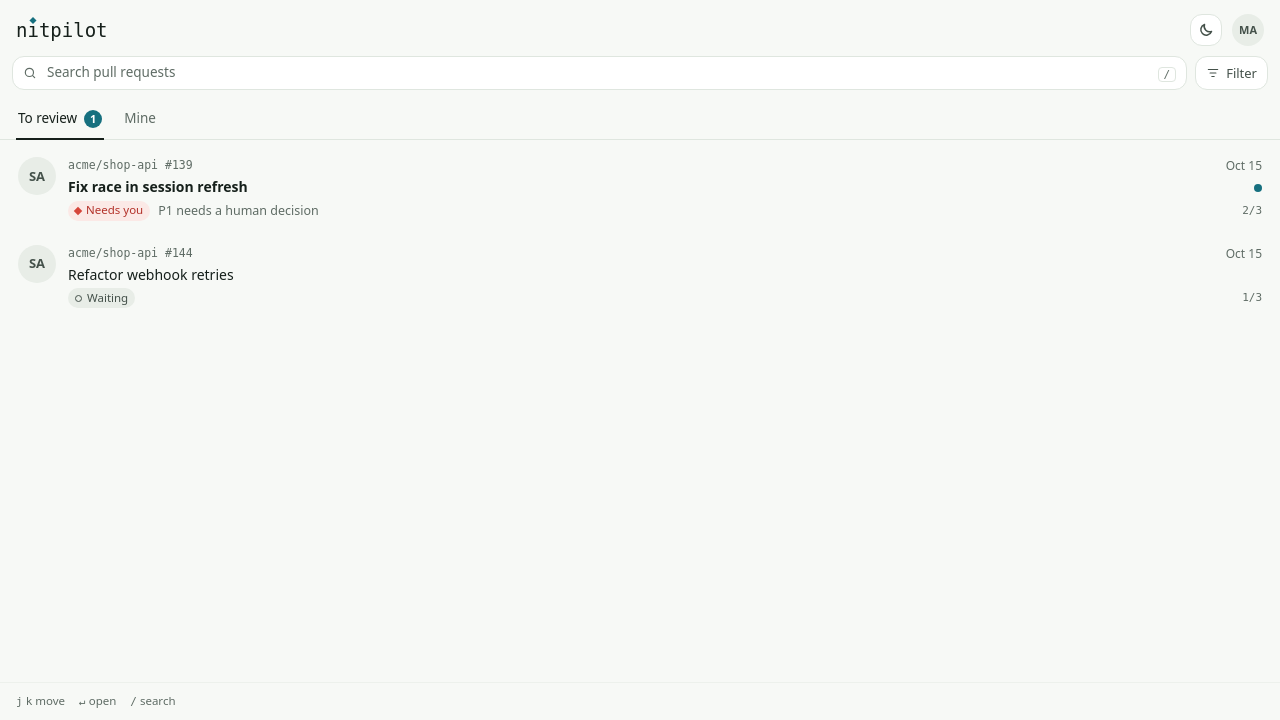
Test case: Inbox (handoff §1) › keeps its tab and search on a phone while a chat is open (W3 ruling)
This screenshot has width=1280, height=720.
Click the tab "Mine": [140, 120] box [122,100,158,140]
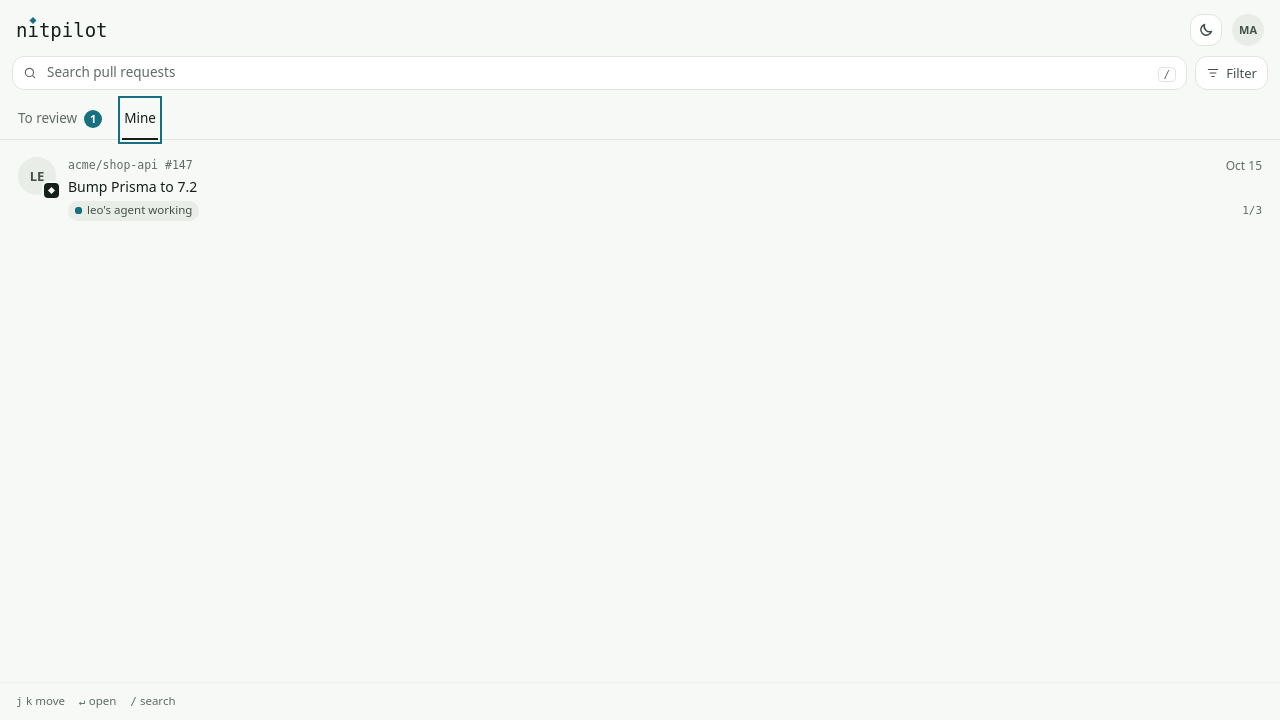
In the field named "Search pull requests": [597, 73] box [45,62,1150,84], type "Prisma"
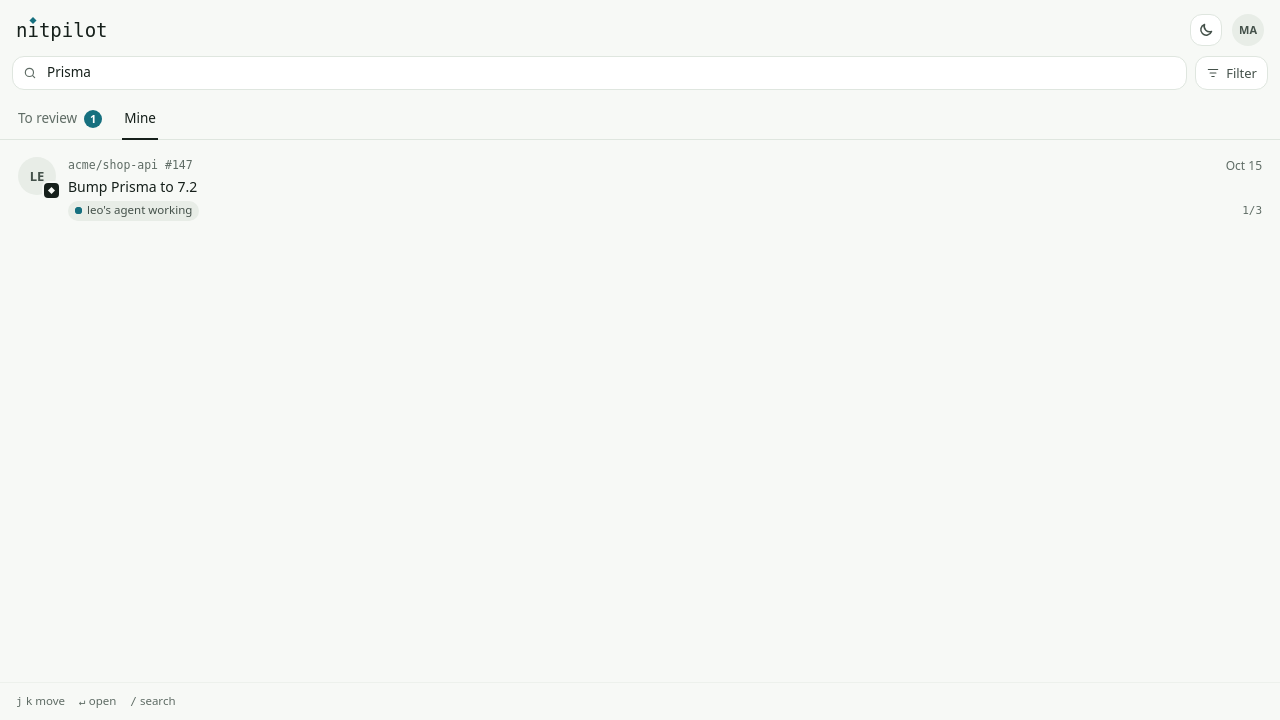
Click the option "Bump Prisma": [37, 176] box [8,146,1272,232]
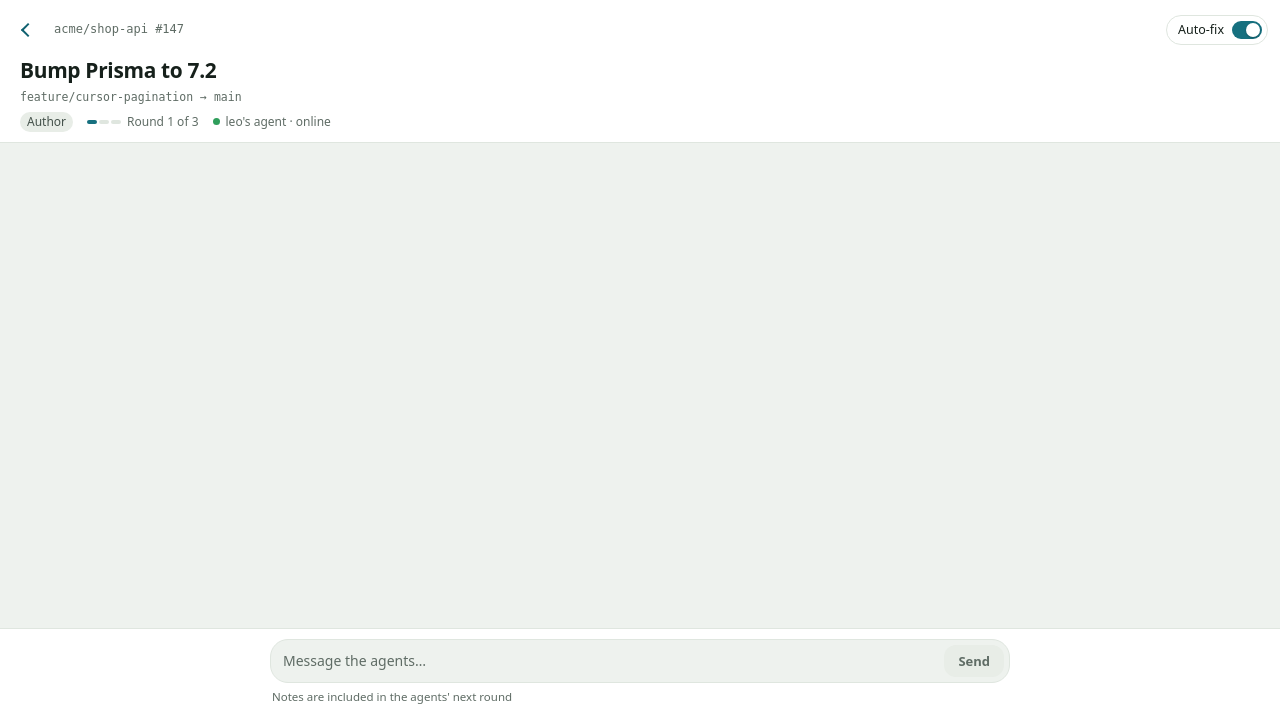
Expected: the heading "Bump Prisma to 7.2" is shown, [20,56,216,84]
Expected: the element "Inbox" is gone
Click the link named "Back to inbox": [28, 30] box [21,23,35,37]
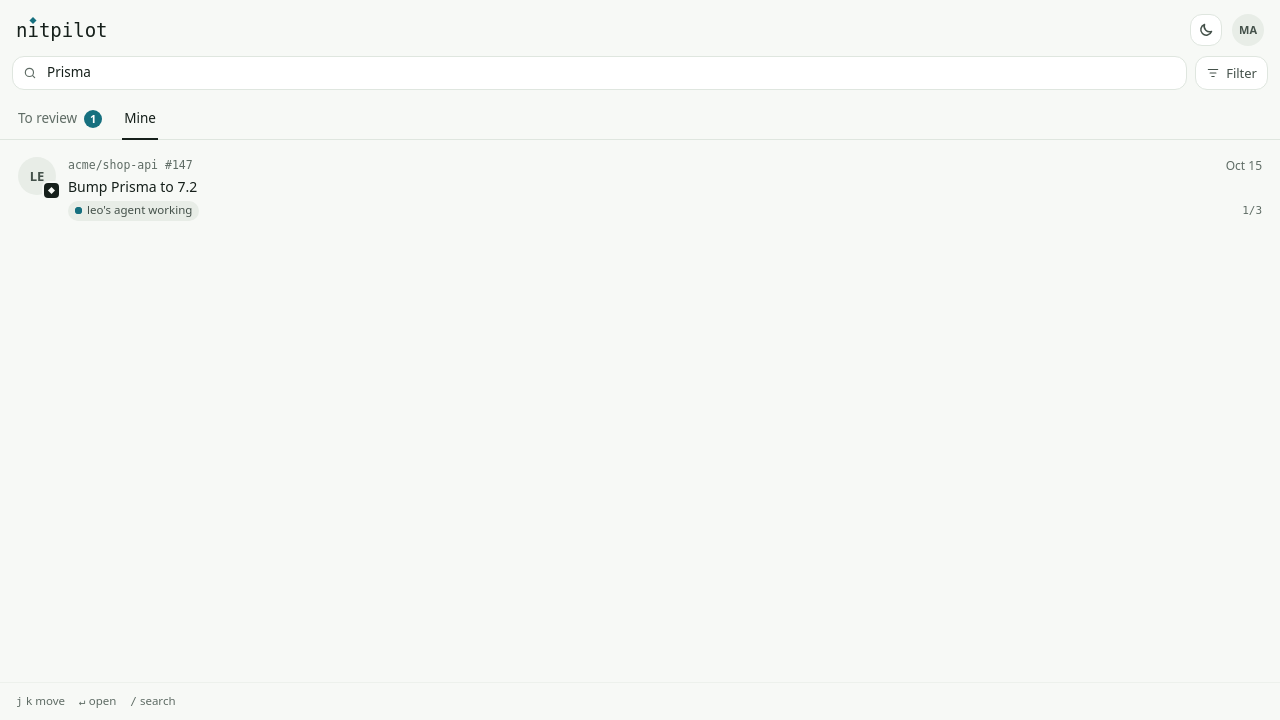
Expected: the tab "Mine" is shown, [122,100,158,140]
Expected: the field named "Search pull requests" holds "Prisma", [45,62,1176,84]
